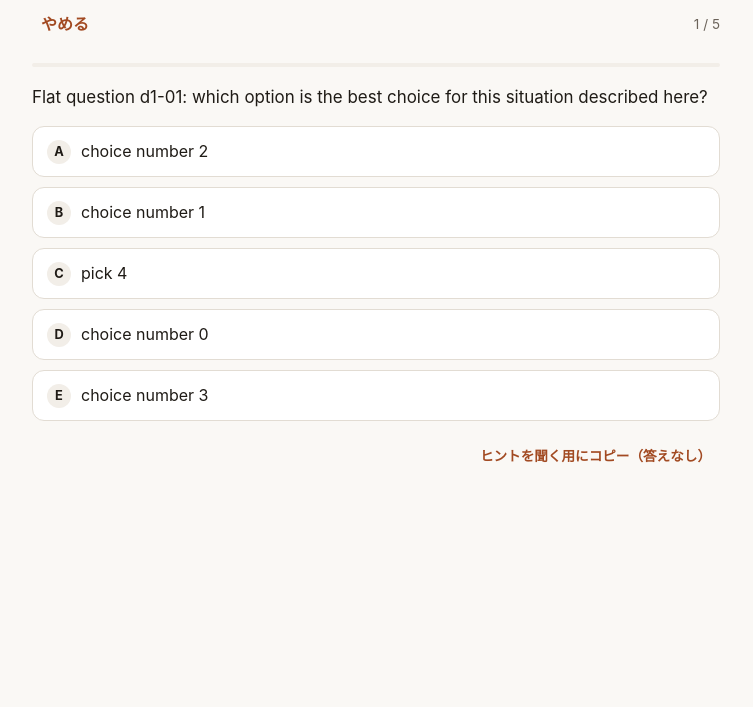
練習の途中で教科書の章を開く（#102） › 教科書の無い資格では、細目の番号は文字のまま
This screenshot has width=753, height=707.
Click the button with class "option" showing "A choice number 2" at (145, 151), box [32,126,720,177]
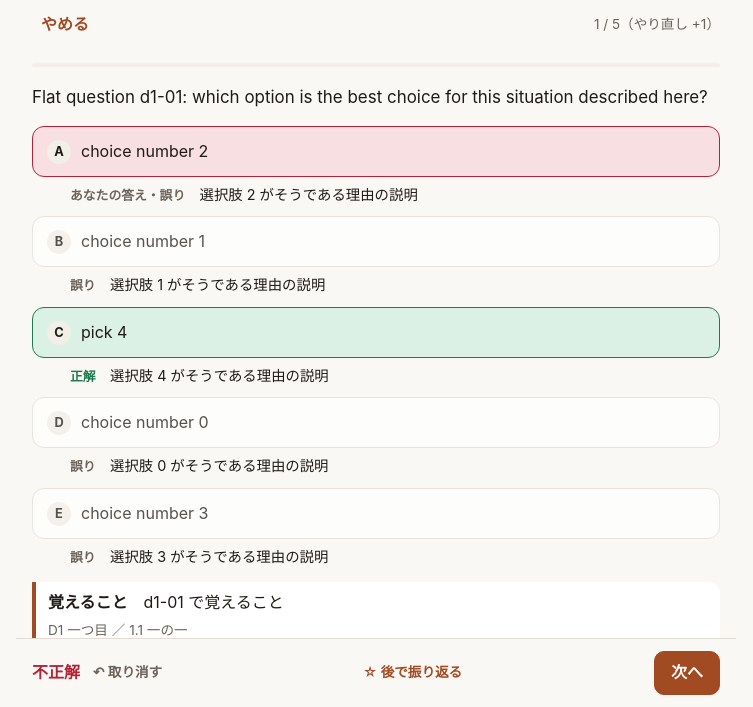
Result: the element with class "why" showing "あなたの答え・誤り 選択肢 2 がそうである理由の説明" is shown at [70,186,418,203]
